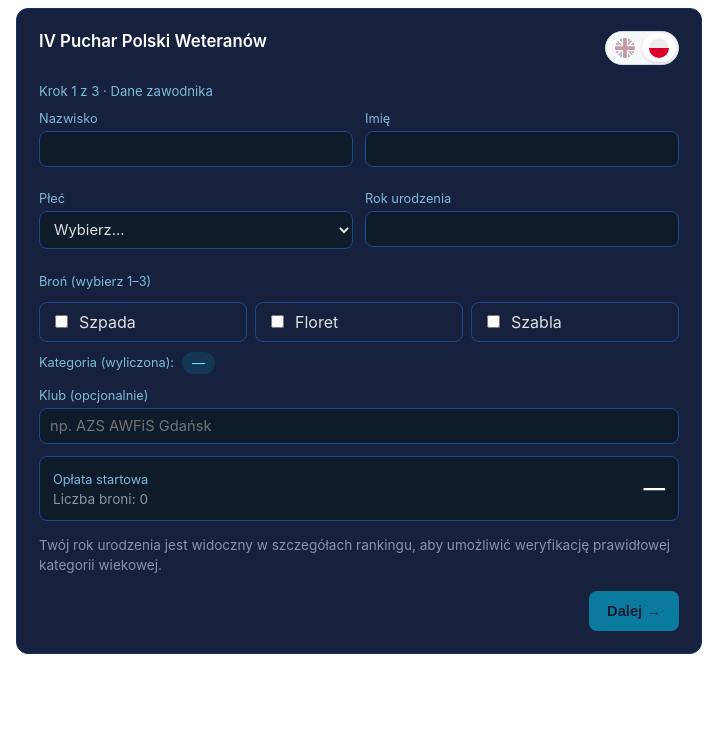
Scenario: RegistrationForm — routing after identity (P2.4, ADR-079 §2) › routes to RODO on an exact match (Path A)
Expected: the text "IV Puchar Polski Weteranów" is shown, [39,31,267,51]
In the field named "surname": (196, 149) [39,131,353,167], type "kowalski"
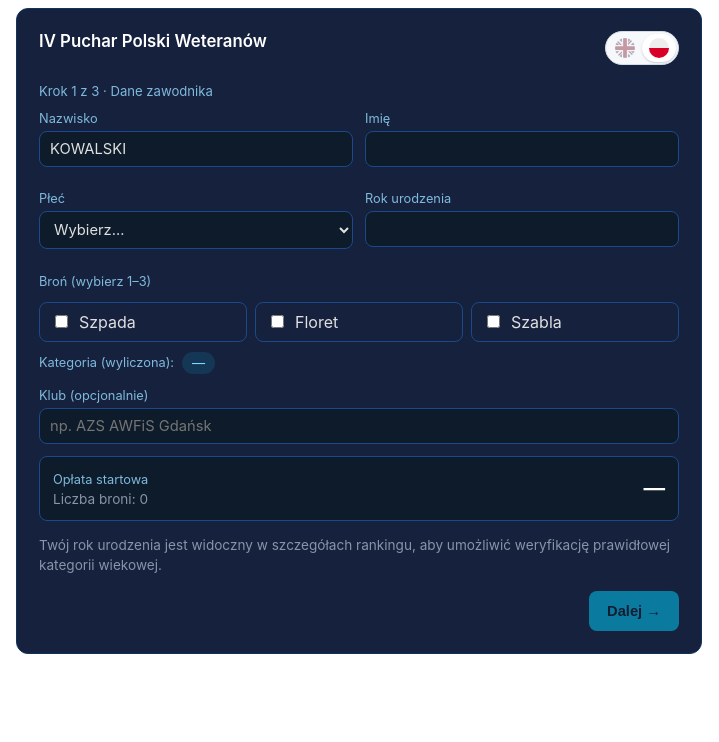
In the field named "firstName": (522, 149) [365,131,679,167], type "Jan"
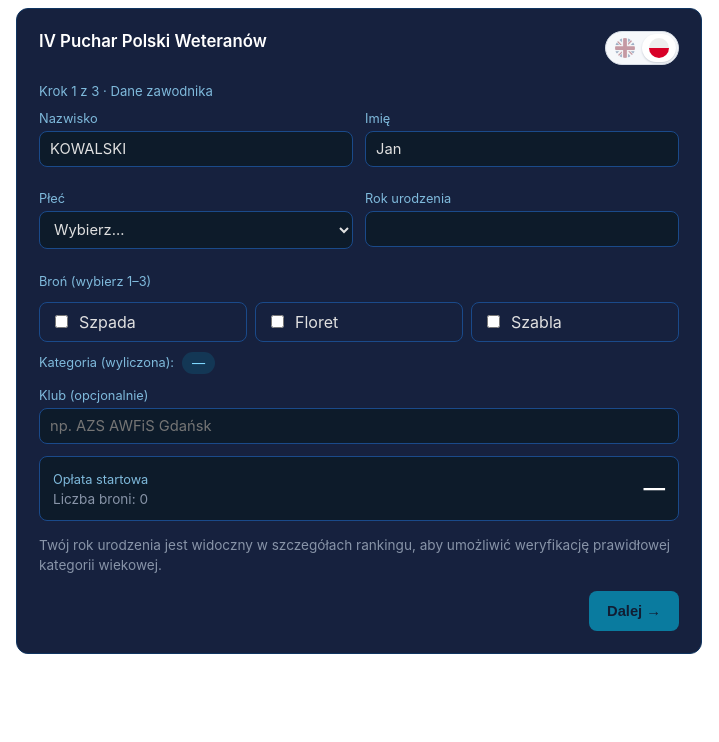
In the number field named "birthYear": (522, 229) [365,211,679,247], type "1970"
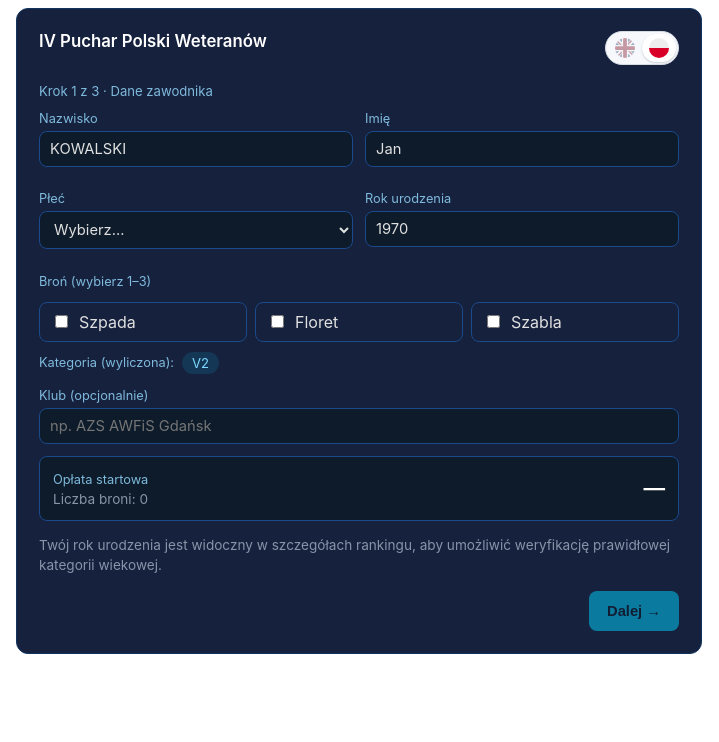
Select "Mężczyzna (M)" in the dropdown named "gender": (196, 230) [39,211,353,249]
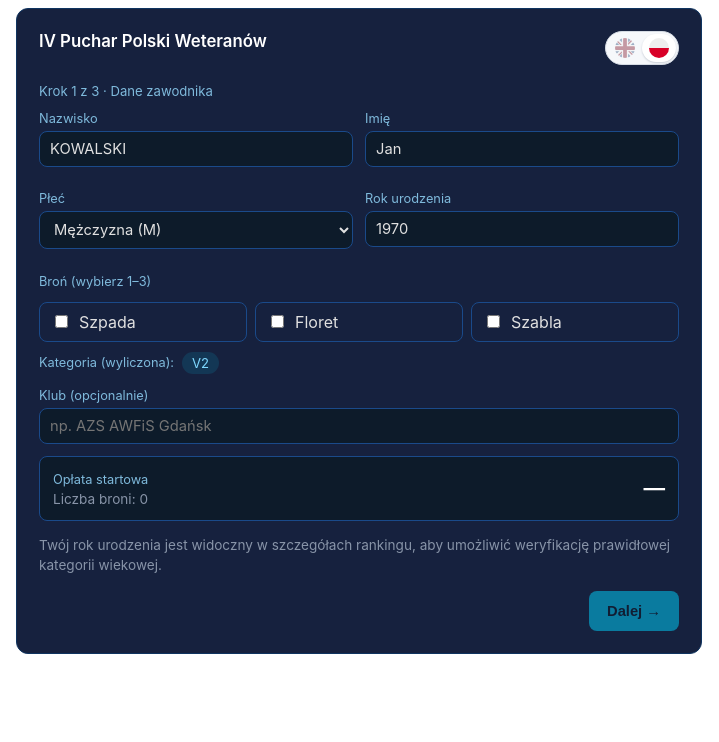
Click the checkbox labelled "Szpada": (62, 322) [55,315,68,328]
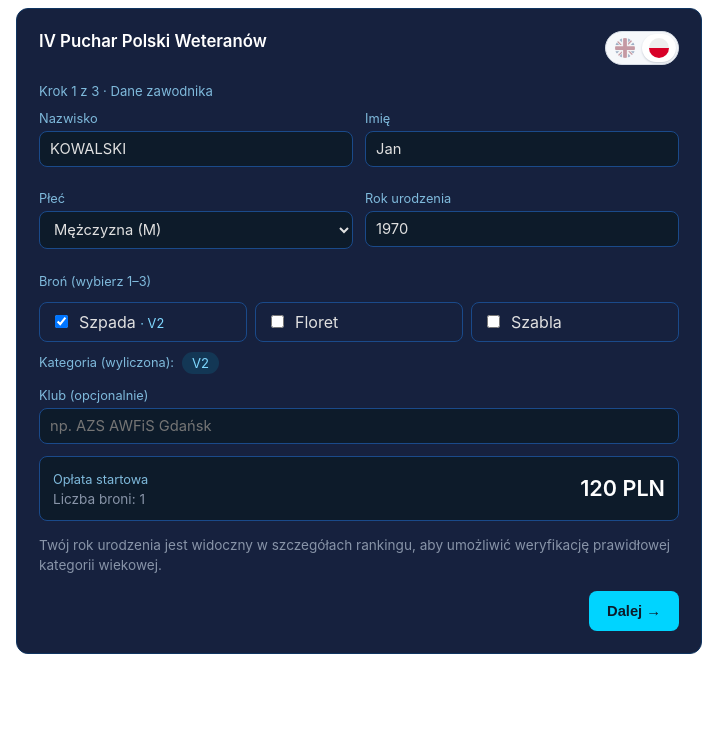
Click the button with class "reg-continue": (634, 611) [589,591,679,631]
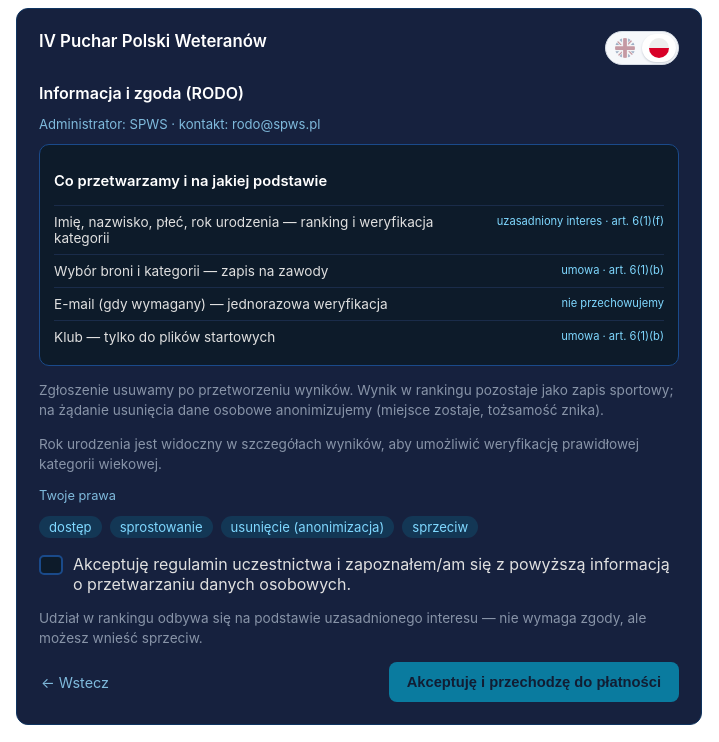
Expected: the text "Informacja i zgoda (RODO)" is shown, [39,83,244,103]
